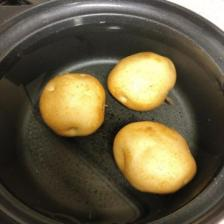Potato: (113, 120, 199, 194), (38, 71, 103, 138), (107, 50, 177, 110)
